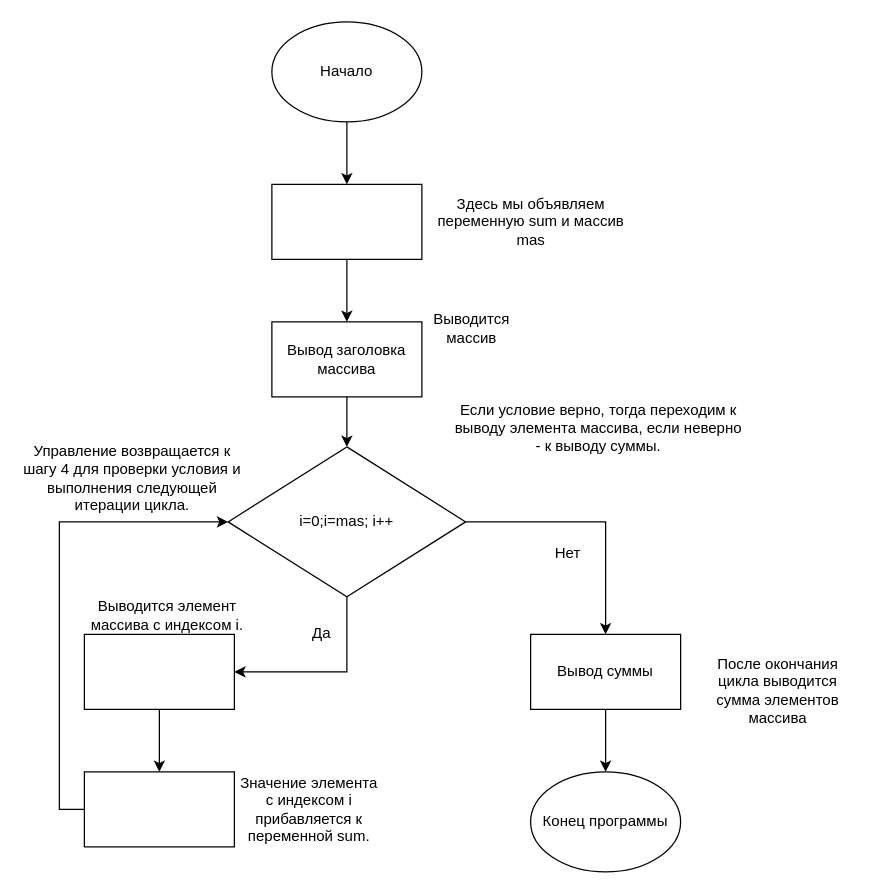
This 880x894 diagram has some shape labels left out. The shapes that lost their labels are listed below. From the top down, each one's centre as x and y in pixels, then its label:
[346,221]: объявляем переменных
[158,671]: Вывод элемента массива
[158,809]: Обновление суммы
